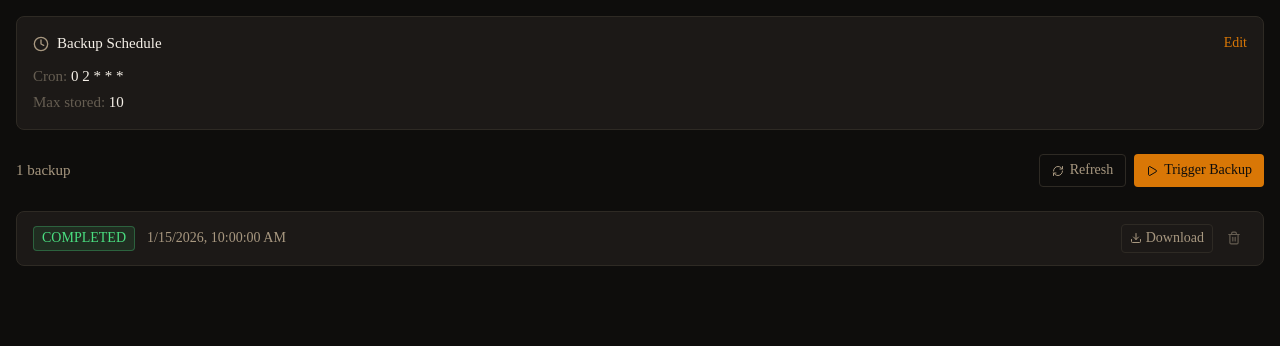
it: BackupsTab › shows error banner on download failure
The image size is (1280, 346).
Click the button "Download": [1167, 238] box [1121,224,1213,253]
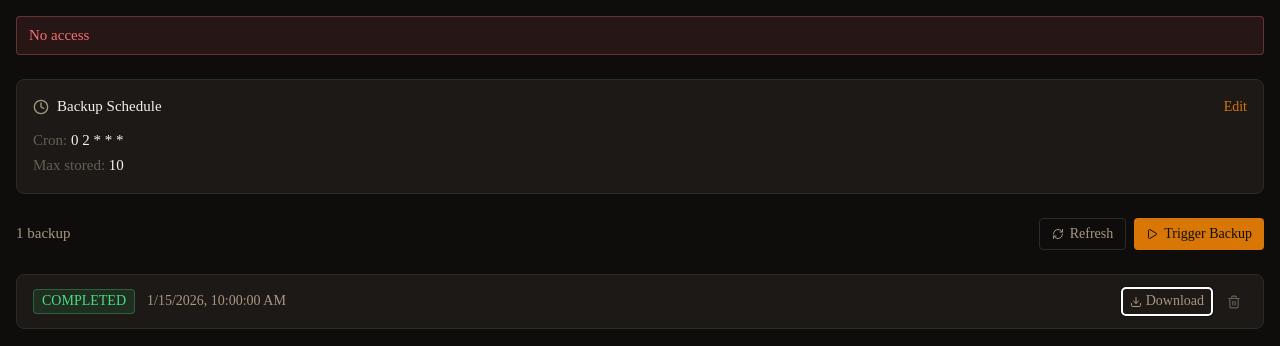
Result: the text "No access" is shown at [16,16,1264,55]
